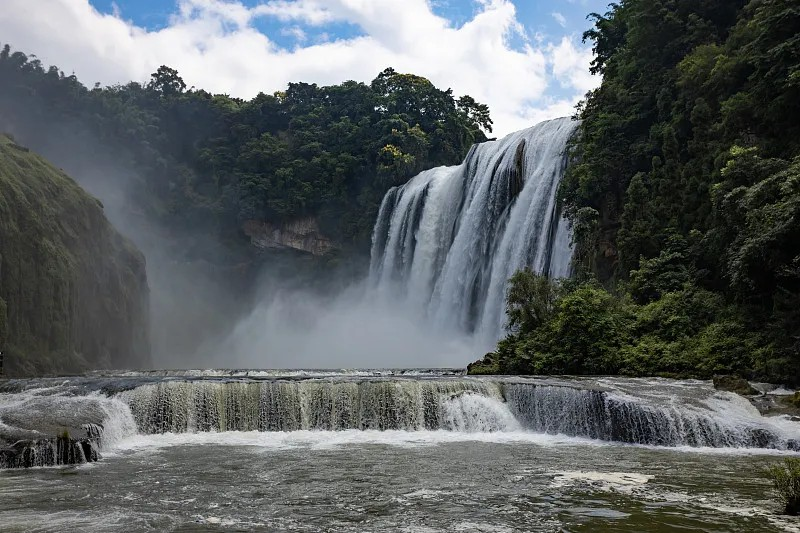Huangguoshu: (369, 114, 575, 368)
